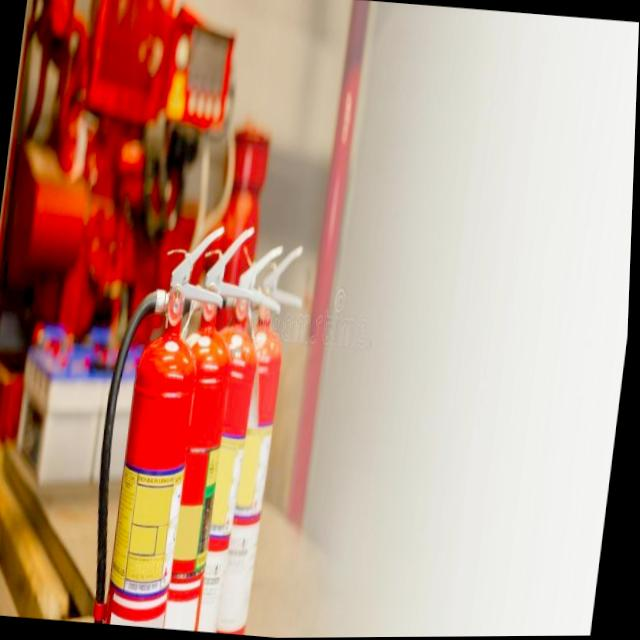FireExtinguisher: (84, 213, 236, 630), (125, 213, 267, 633), (159, 236, 291, 634), (184, 236, 313, 636)
